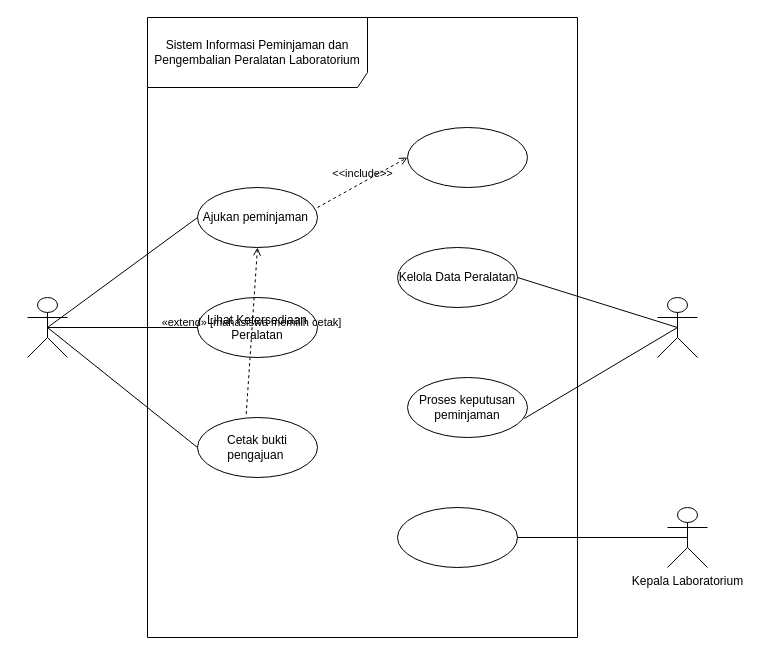
Some shapes in this 760 by 655 pixel diagram are drawn without their labels. Here are the shapes that lost their labels. From the top down, the centre of each, then its label:
At [467,157]: "Periksa ketersediaan".
At [47,327]: "Mahasiswa".
At [677,327]: "Petugas Laboran".
At [457,537]: "Lihat laporan peminjaman".
